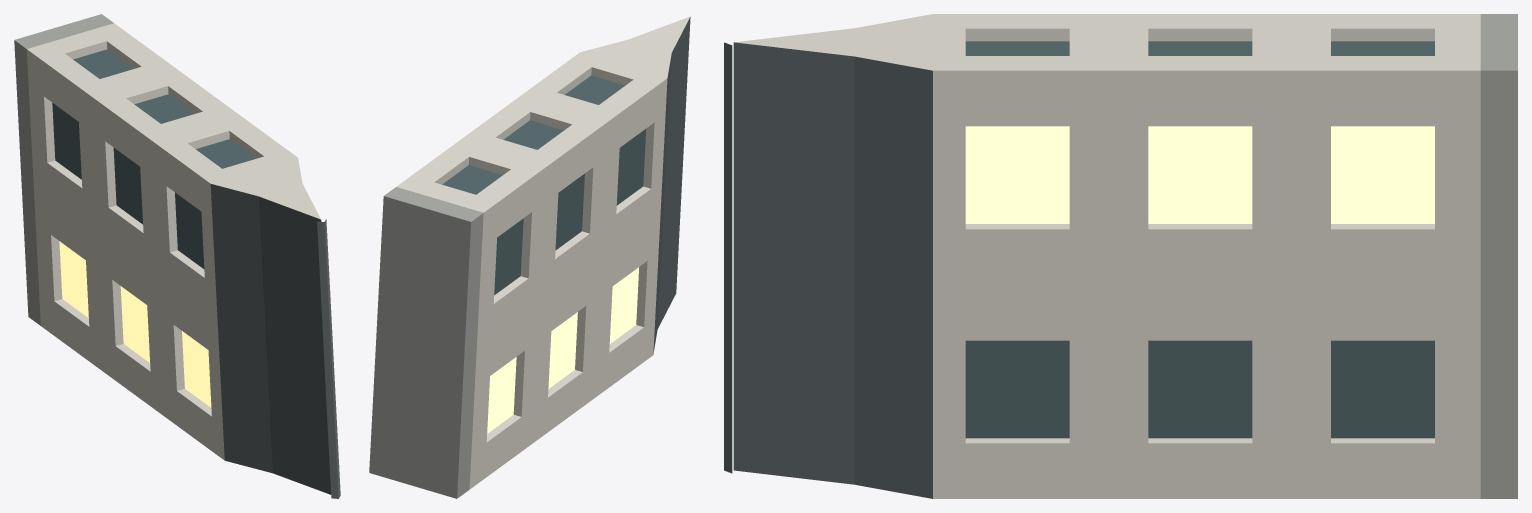
Rendered from historic-mid.glb.
3 renders of one model, left to right at view 1: azimuth 30°, elevation 25°; view 2: azimuth 150°, elevation 25°; view 3: azimuth 270°, elevation 25°, orthographic. The views are drawn at different scales.
Visible parts, largest first — view 1: way/501927117; view 2: way/501927117; view 3: way/501927117.
Boxes of the visible parts, <box> form: way/501927117: <box>14,14,340,498</box>; way/501927117: <box>369,16,690,498</box>; way/501927117: <box>724,14,1517,498</box>.
Size of the model in its own units: 2.82 by 7.53 by 12.76.
